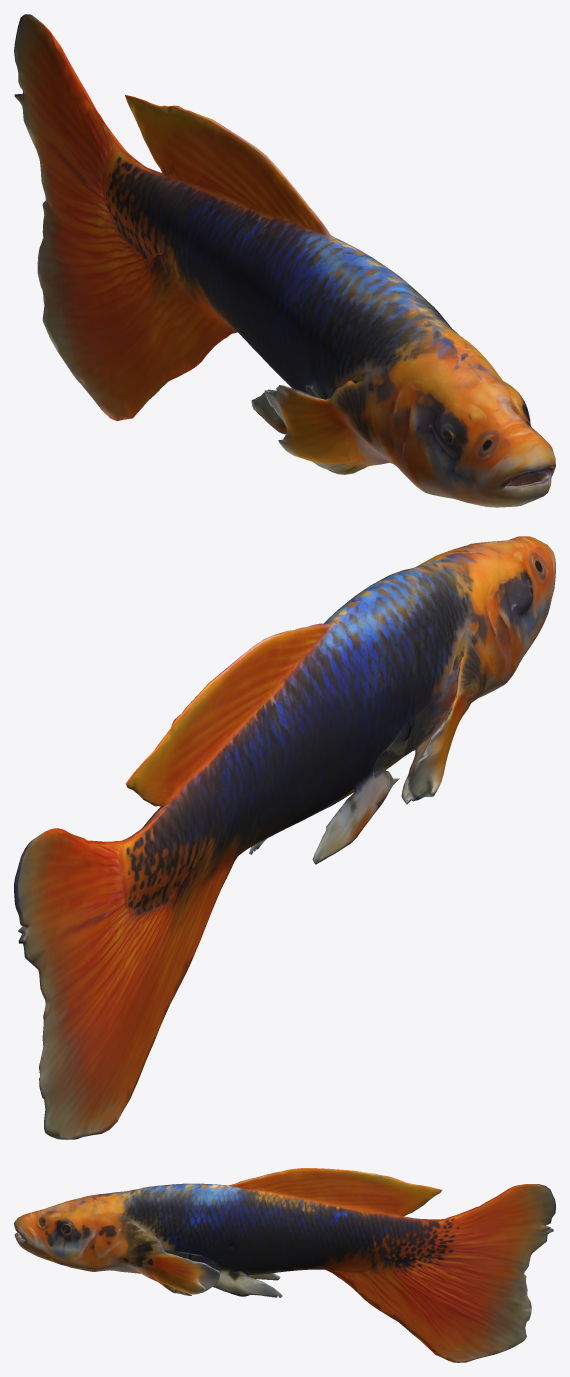
The model's file is guppy_0604070850_texture.glb.
3 views of the same model, one above another, from view 1: azimuth 30°, elevation 25°; view 2: azimuth 150°, elevation 25°; view 3: azimuth 270°, elevation 25° (orthographic). The views are drawn at different scales.
Bounding box in the file's own units: 0.3536 × 0.7915 × 1.99.
Materials: 1 (1 with a texture image).
